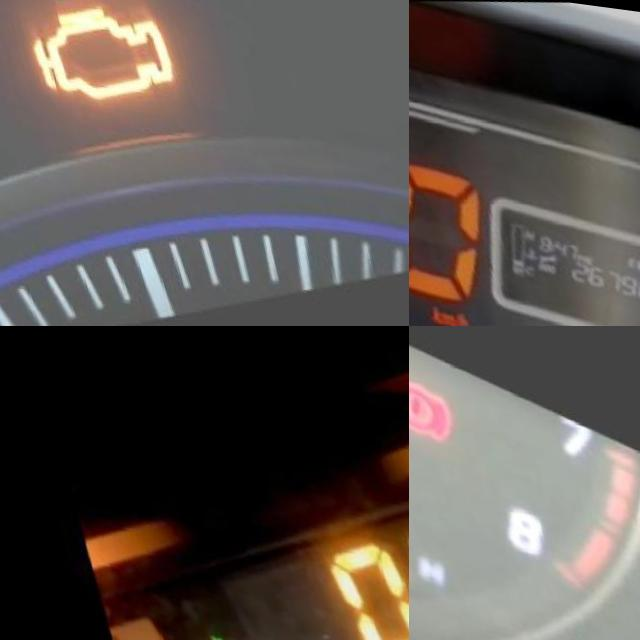Engine cooling system: (170, 620, 223, 640)
